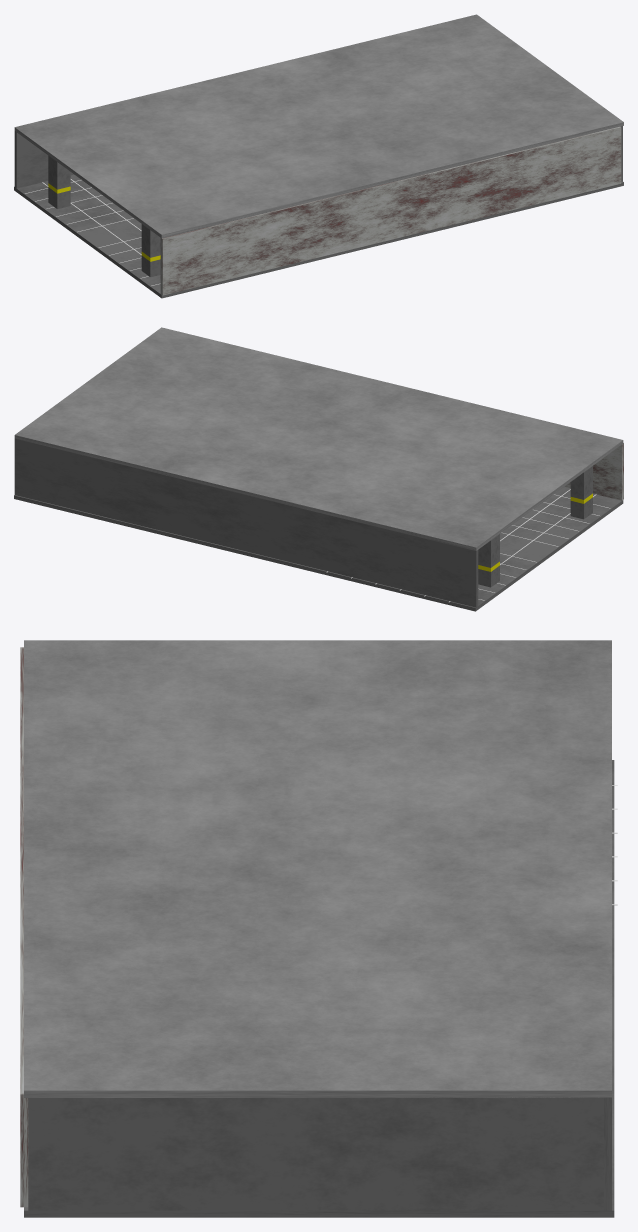
The model's file is 13_discolored_wall_exit.glb.
3 renders of one model, top to bottom at view 1: azimuth 30°, elevation 25°; view 2: azimuth 150°, elevation 25°; view 3: azimuth 270°, elevation 25°, orthographic. The views are drawn at different scales.
Visible parts, largest first — view 1: Cube.270, Cube.272, Cube.269, Cube.271, Cube.279, Cube.275, Cube.281; view 2: Cube.270, Cube.271, Cube.269, Cube.272, Cube.275, Cube.279, Cube.280; view 3: Cube.270, Cube.034, Cube.269, Cube.272, Cube.271.
Part boxes in pixels (left/top/right/bottom): Cube.270: left=14, top=14, right=623, bottom=238; Cube.272: left=160, top=126, right=621, bottom=295; Cube.269: left=14, top=174, right=623, bottom=298; Cube.271: left=14, top=131, right=73, bottom=188; Cube.279: left=48, top=155, right=70, bottom=208; Cube.275: left=141, top=224, right=160, bottom=277; Cube.281: left=25, top=179, right=137, bottom=233; Cube.270: left=14, top=327, right=623, bottom=550; Cube.271: left=14, top=438, right=478, bottom=607; Cube.269: left=14, top=486, right=623, bottom=611; Cube.272: left=565, top=443, right=623, bottom=500; Cube.275: left=570, top=466, right=592, bottom=519; Cube.279: left=478, top=534, right=499, bottom=587; Cube.280: left=500, top=489, right=610, bottom=548; Cube.270: left=24, top=640, right=611, bottom=1097; Cube.034: left=28, top=1097, right=603, bottom=1210; Cube.269: left=24, top=760, right=614, bottom=1217; Cube.272: left=20, top=647, right=28, bottom=1207; Cube.271: left=604, top=1097, right=611, bottom=1210.
Size of the model in its own units: 272 by 35.81 by 153.
5 materials, 3 textured.
